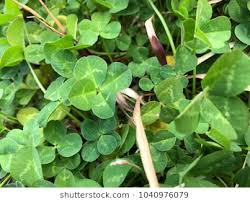4-clover: (71, 56, 132, 116)
